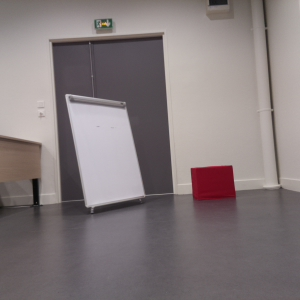big: (65, 94, 148, 209)
medium: (190, 166, 237, 200)
